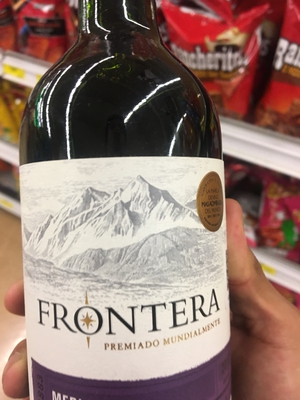frontera merlot: (17, 11, 240, 400)
